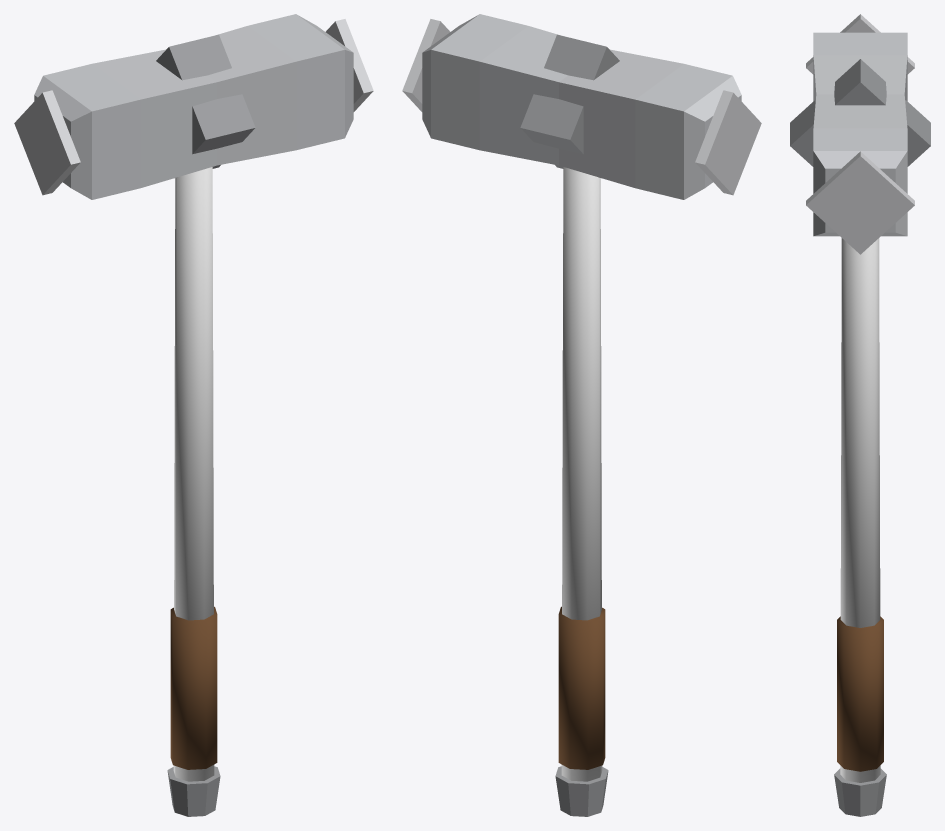
File: silver_hammer.glb
3 renders of one model, left to right at view 1: azimuth 30°, elevation 25°; view 2: azimuth 150°, elevation 25°; view 3: azimuth 270°, elevation 25°, orthographic. The views are drawn at different scales.
Parts seen in each view (by area): view 1: silver_hammer_v0; view 2: silver_hammer_v0; view 3: silver_hammer_v0.
Part boxes in pixels (x1,y1,x2,y2): silver_hammer_v0: (14,14,373,816); silver_hammer_v0: (402,14,761,816); silver_hammer_v0: (790,14,930,816).
Size of the model in its own units: 0.364 by 0.8813 by 0.1526.
